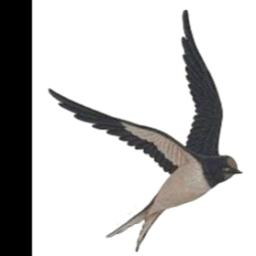Swallow: (48, 9, 244, 250)
